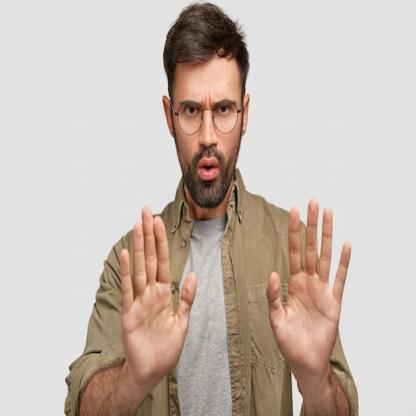stop: (264, 193, 352, 374), (118, 202, 200, 380)
